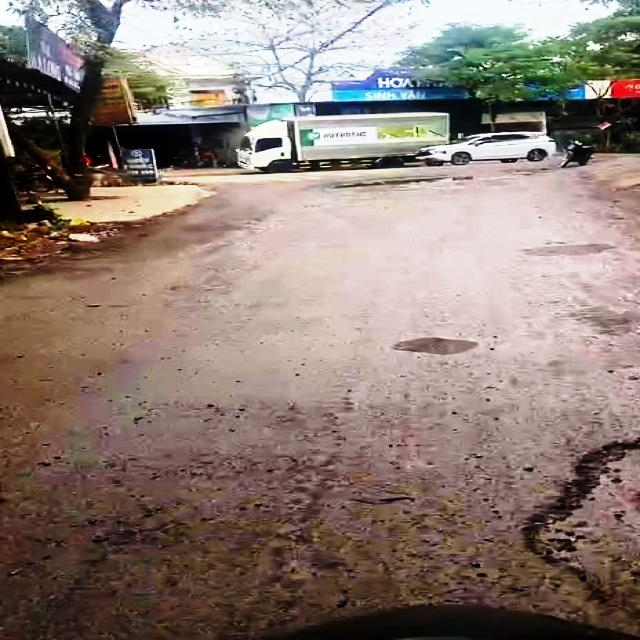pothole: (507, 428, 640, 625)
